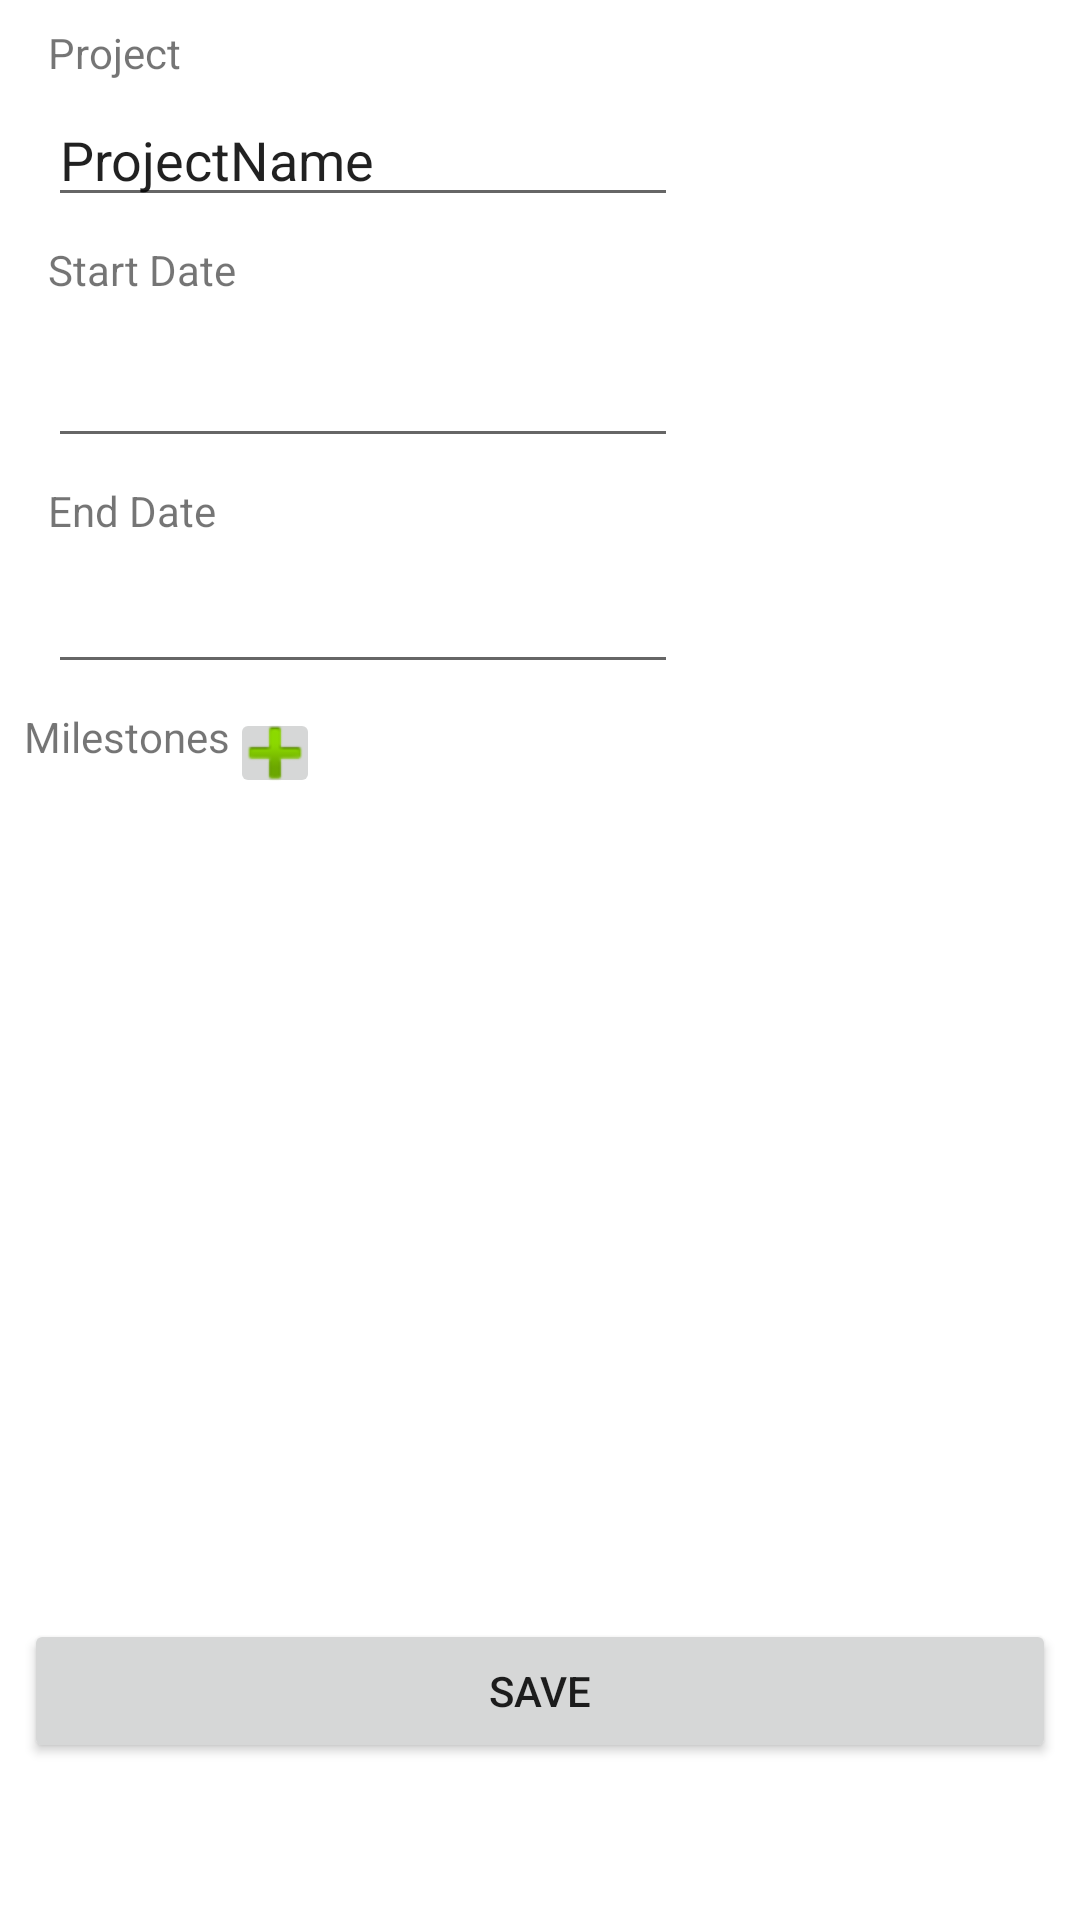

Screen size 1080px x 1920px. Icon name, then its box in pixels as (x1, y1, x2, y2):
add: (242, 726, 308, 780)
